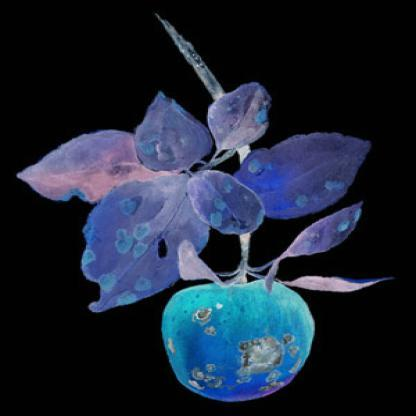Apple Scab Leaf: (80, 167, 209, 328), (232, 118, 386, 224), (122, 86, 218, 183), (183, 162, 268, 240), (278, 193, 370, 263), (202, 73, 268, 165)
